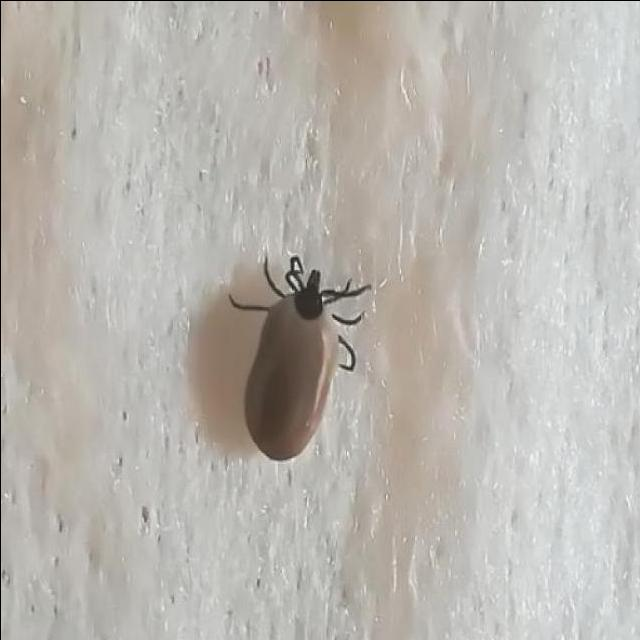Ixodes Ricinus-F-Fed: (226, 253, 371, 460)
